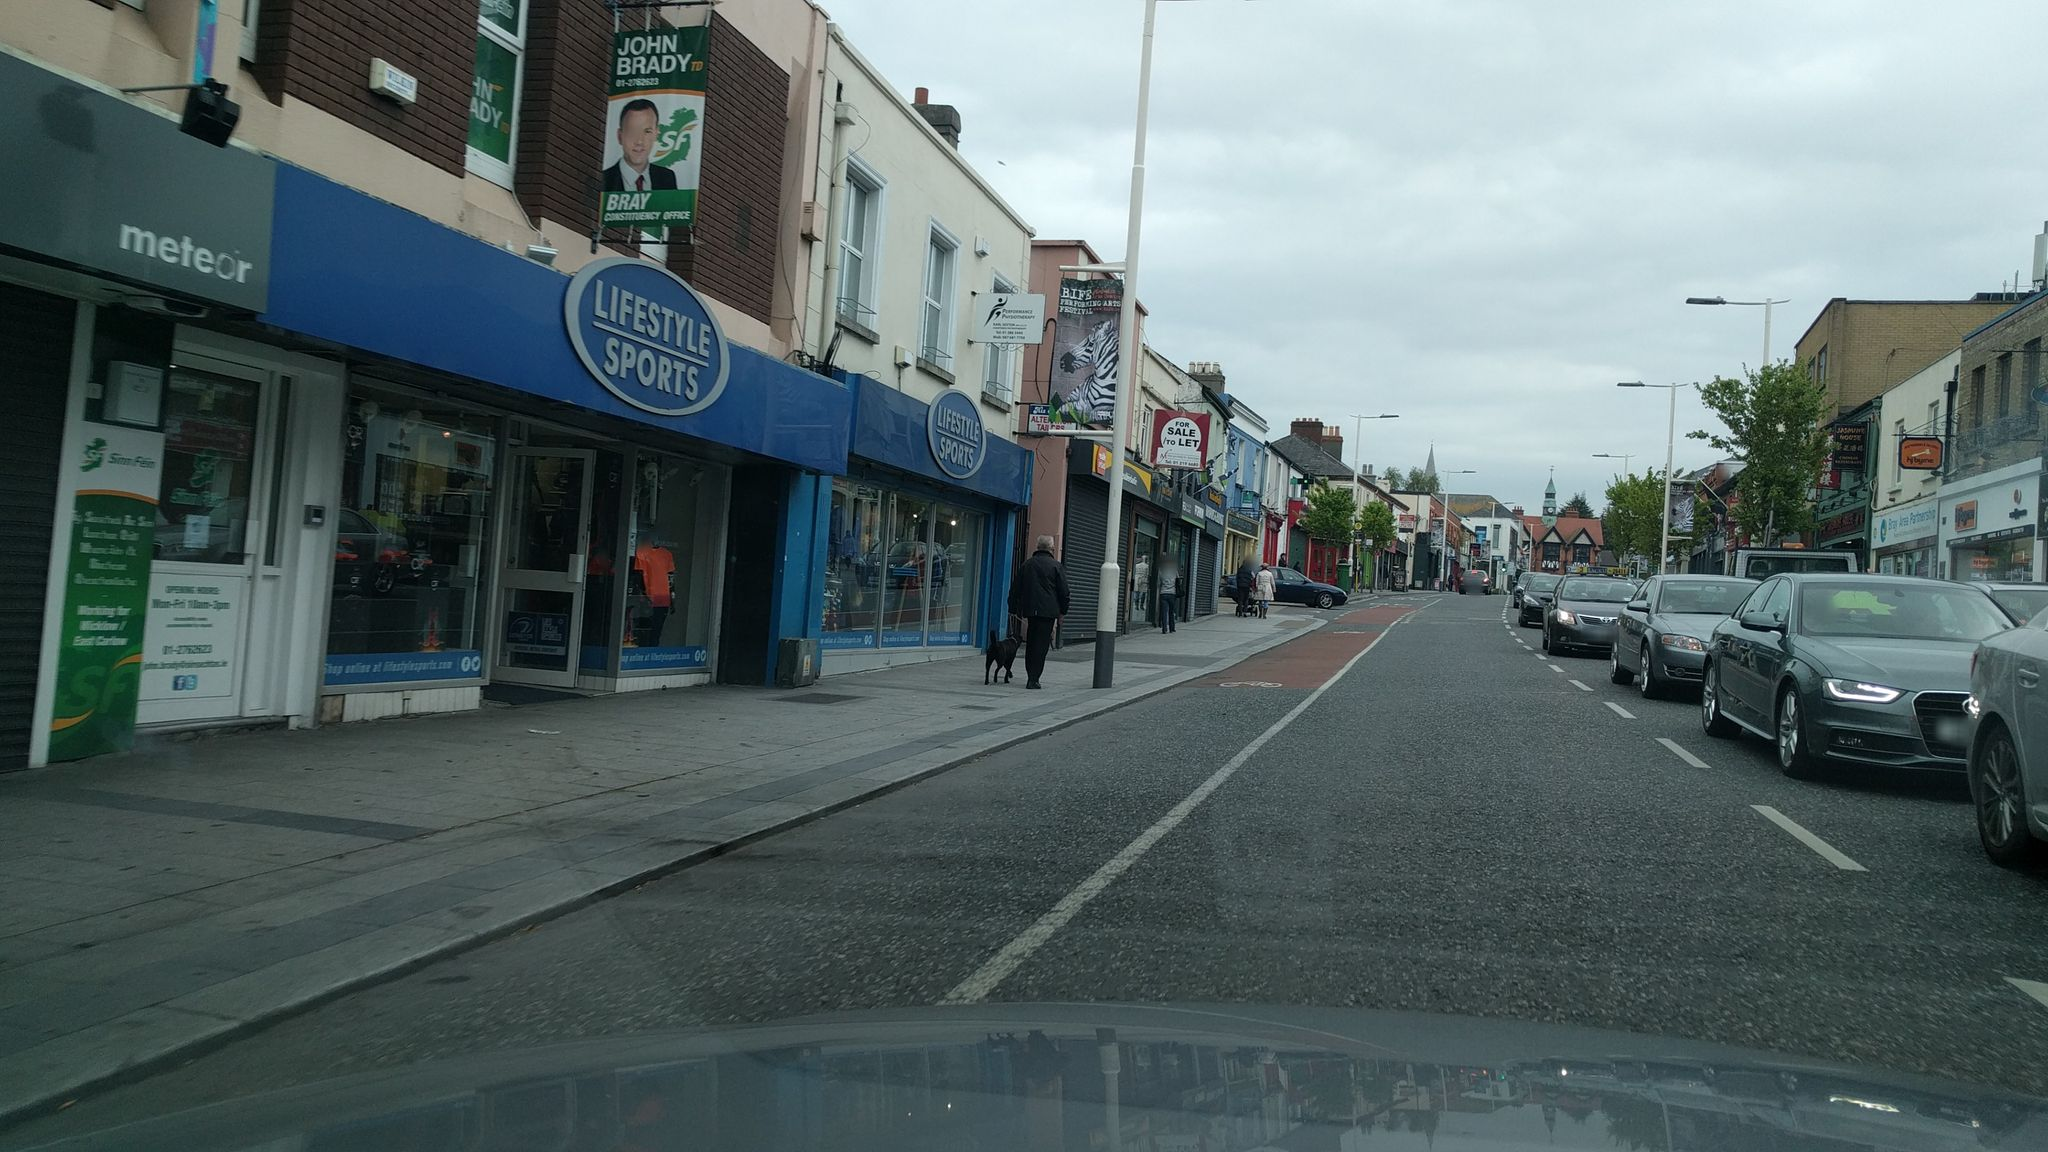property sign: (1142, 392, 1220, 482)
vinyl banner: (603, 21, 710, 255), (1038, 264, 1129, 440)
